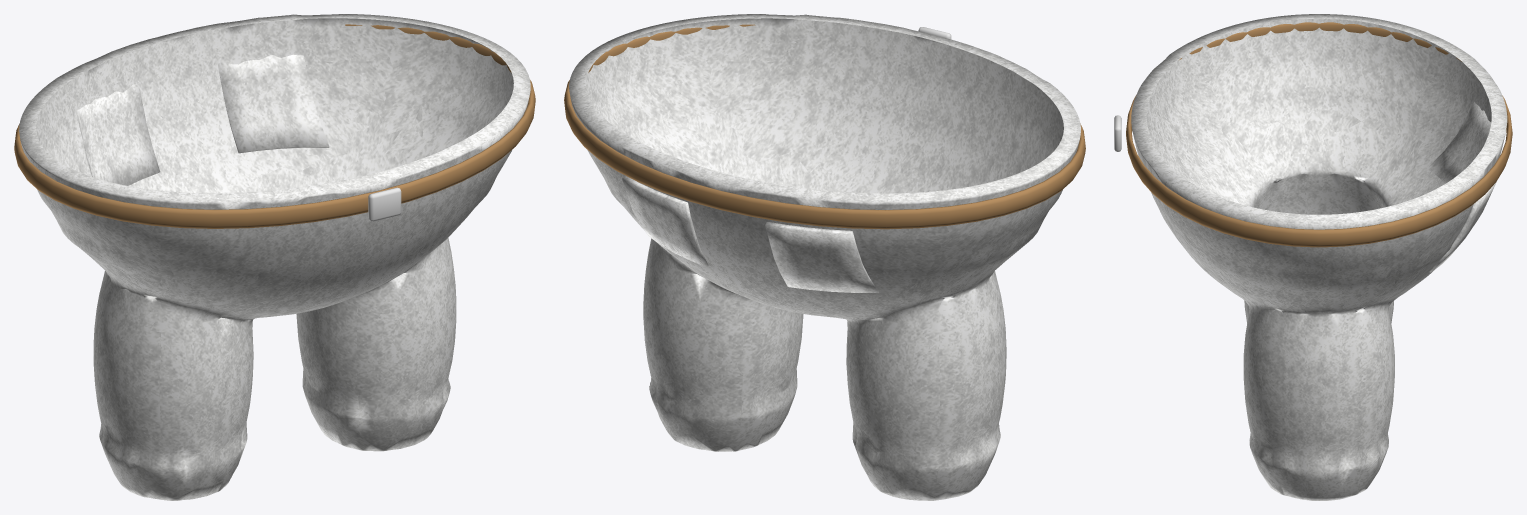
File: jeans3.fbx
The picture shows the model from 3 angles, left to right: view 1: azimuth 30°, elevation 25°; view 2: azimuth 150°, elevation 25°; view 3: azimuth 270°, elevation 25°; orthographic projection. The views are drawn at different scales.
Parts seen in each view (by area): view 1: jeans3; view 2: jeans3; view 3: jeans3.
Part boxes in pixels (x1,y1,x2,y2): jeans3: (14,14,535,500); jeans3: (564,14,1085,500); jeans3: (1114,14,1512,500).
Bounding box in the file's own units: 0.8308 × 0.5779 × 0.6559.
3 materials, 1 textured.
